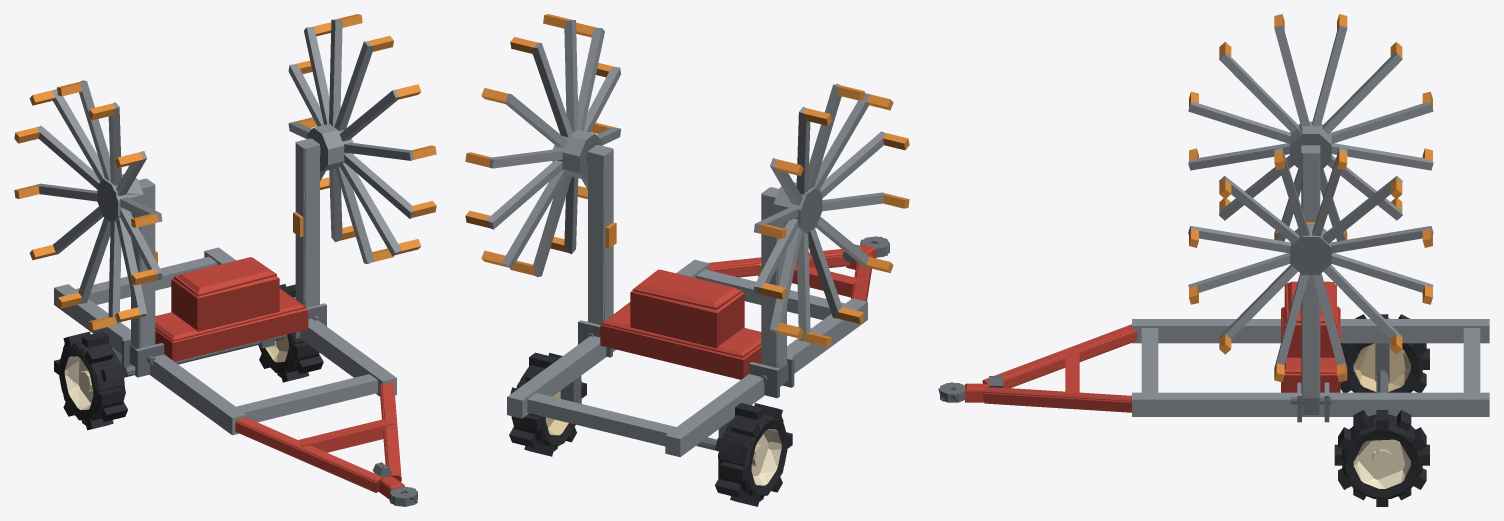
File: FMS_Mach_HayRake.fbx
3 views of the same model, side by side, from view 1: azimuth 30°, elevation 25°; view 2: azimuth 150°, elevation 25°; view 3: azimuth 270°, elevation 25° (orthographic). The views are drawn at different scales.
Visible parts, largest first — view 1: Frame, Rotor_R, Rotor_L, Frame_Low1, Wheel_R, Arm_L, Arm_R, Wheel_R_Low1, Wheel_L, Rotor_L_Low1, Rotor_R_Low1, Wheel_L_Low1 (+1 smaller); view 2: Frame, Rotor_R, Rotor_L, Frame_Low1, Wheel_R, Arm_L, Wheel_L, Arm_R, Wheel_R_Low1, Rotor_R_Low1, Rotor_L_Low1, Wheel_L_Low1 (+1 smaller); view 3: Frame, Rotor_L, Rotor_R, Frame_Low1, Wheel_L, Wheel_R, Arm_L, Wheel_L_Low1, Arm_R, Rotor_L_Low1, Wheel_R_Low1, Rotor_R_Low1.
Part boxes in pixels (x1=…): Frame: x1=54, y1=247, x2=417, y2=506; Rotor_R: x1=14, y1=80, x2=162, y2=330; Rotor_L: x1=288, y1=14, x2=436, y2=263; Frame_Low1: x1=54, y1=248, x2=417, y2=503; Wheel_R: x1=54, y1=331, x2=127, y2=429; Arm_L: x1=293, y1=138, x2=320, y2=321; Arm_R: x1=129, y1=178, x2=157, y2=366; Wheel_R_Low1: x1=54, y1=331, x2=127, y2=429; Wheel_L: x1=259, y1=284, x2=323, y2=382; Rotor_L_Low1: x1=288, y1=37, x2=427, y2=263; Rotor_R_Low1: x1=34, y1=81, x2=162, y2=316; Wheel_L_Low1: x1=264, y1=284, x2=322, y2=382; Frame: x1=507, y1=236, x2=889, y2=456; Rotor_R: x1=754, y1=84, x2=909, y2=346; Rotor_L: x1=465, y1=14, x2=621, y2=277; Frame_Low1: x1=507, y1=236, x2=889, y2=457; Wheel_R: x1=715, y1=403, x2=792, y2=506; Arm_L: x1=587, y1=145, x2=616, y2=337; Wheel_L: x1=509, y1=352, x2=586, y2=456; Arm_R: x1=758, y1=187, x2=788, y2=386; Wheel_R_Low1: x1=715, y1=403, x2=792, y2=501; Rotor_R_Low1: x1=770, y1=84, x2=867, y2=332; Rotor_L_Low1: x1=481, y1=20, x2=608, y2=253; Wheel_L_Low1: x1=510, y1=353, x2=586, y2=455; Frame: x1=940, y1=281, x2=1489, y2=422; Rotor_L: x1=1188, y1=148, x2=1433, y2=382; Rotor_R: x1=1188, y1=14, x2=1433, y2=241; Frame_Low1: x1=938, y1=282, x2=1489, y2=416; Wheel_L: x1=1334, y1=410, x2=1429, y2=506; Wheel_R: x1=1340, y1=314, x2=1429, y2=392; Arm_L: x1=1290, y1=275, x2=1331, y2=414; Wheel_L_Low1: x1=1334, y1=410, x2=1429, y2=506; Arm_R: x1=1301, y1=145, x2=1320, y2=224; Rotor_L_Low1: x1=1189, y1=149, x2=1432, y2=304; Wheel_R_Low1: x1=1341, y1=315, x2=1429, y2=392; Rotor_R_Low1: x1=1232, y1=25, x2=1433, y2=240.
Size of the model in its own units: 2.92 by 3.38 by 4.62.
